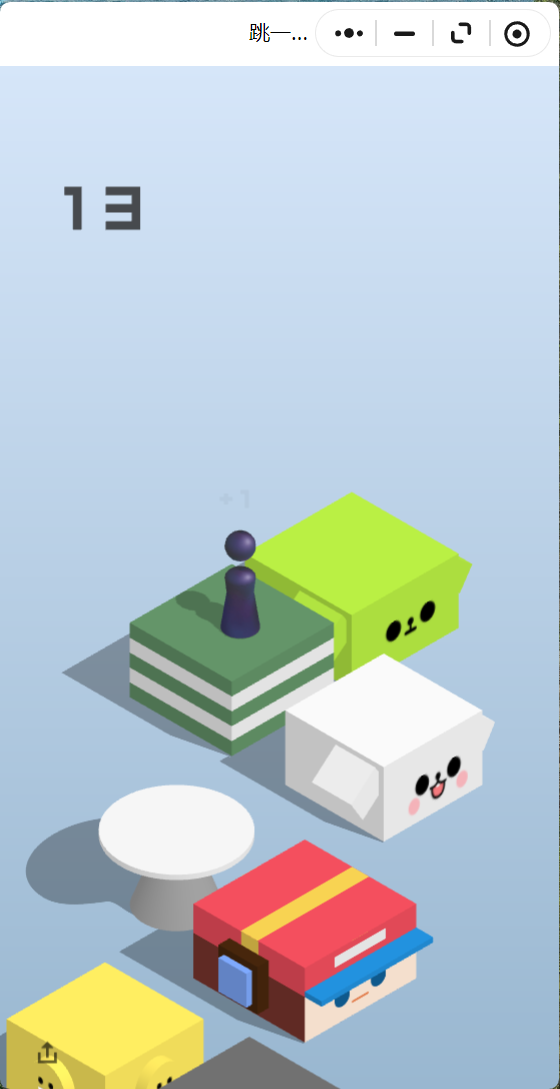piece: (224, 530, 256, 633)
target: (245, 492, 458, 616)
